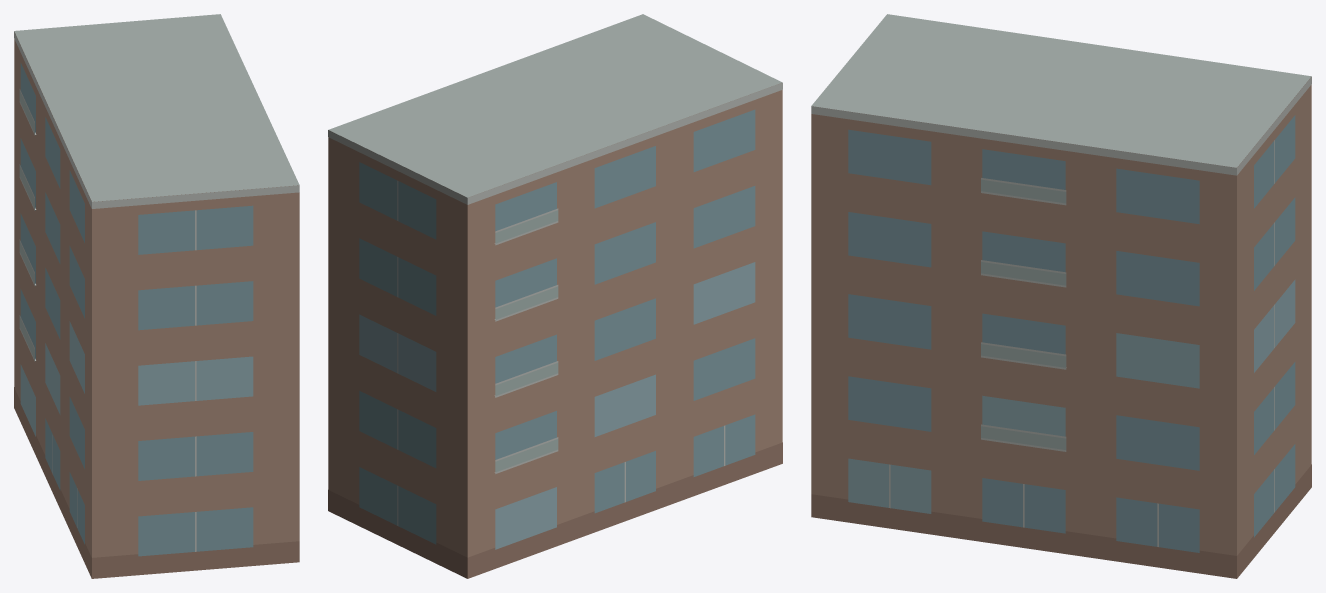
Rendered from survey-upis-32495081.glb.
3 views of the same model, side by side, from view 1: azimuth 30°, elevation 25°; view 2: azimuth 150°, elevation 25°; view 3: azimuth 270°, elevation 25° (orthographic). The views are drawn at different scales.
Visible parts, largest first — view 1: survey-upis-32495081.tmp; view 2: survey-upis-32495081.tmp; view 3: survey-upis-32495081.tmp.
Part boxes in pixels (left/top/right/bottom): survey-upis-32495081.tmp: left=14, top=14, right=299, bottom=578; survey-upis-32495081.tmp: left=328, top=14, right=782, bottom=578; survey-upis-32495081.tmp: left=811, top=14, right=1311, bottom=578.
Bounding box in the file's own units: 10.28 × 12.8 × 14.14.
